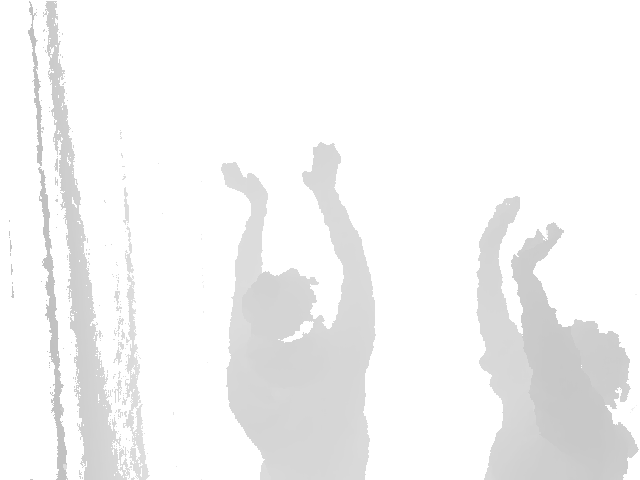hand: (214, 156, 275, 209), (508, 223, 565, 266), (298, 140, 345, 190), (480, 195, 524, 244)
head: (240, 264, 329, 352), (566, 314, 635, 417)
person: (215, 138, 378, 480), (474, 196, 640, 477)
